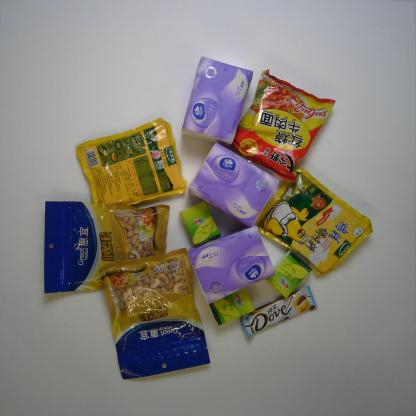Chocolate: (239, 286, 318, 338)
Dried Fruit: (98, 247, 211, 380), (43, 201, 170, 294)
Instant Noodles: (231, 68, 336, 182)
Seasoner: (254, 167, 374, 277), (74, 116, 188, 207)
Tissue: (187, 141, 280, 228), (186, 225, 276, 304), (180, 55, 254, 146), (264, 250, 312, 300), (178, 199, 222, 248), (209, 288, 256, 326)
